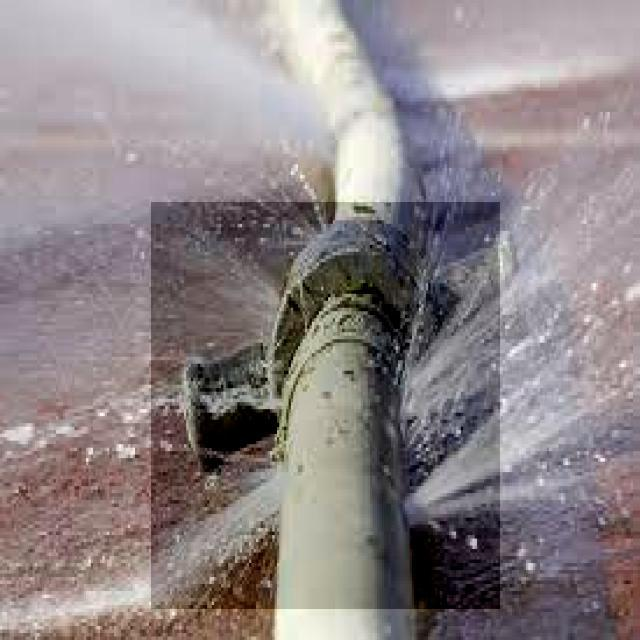corrosion: (235, 313, 428, 565)
